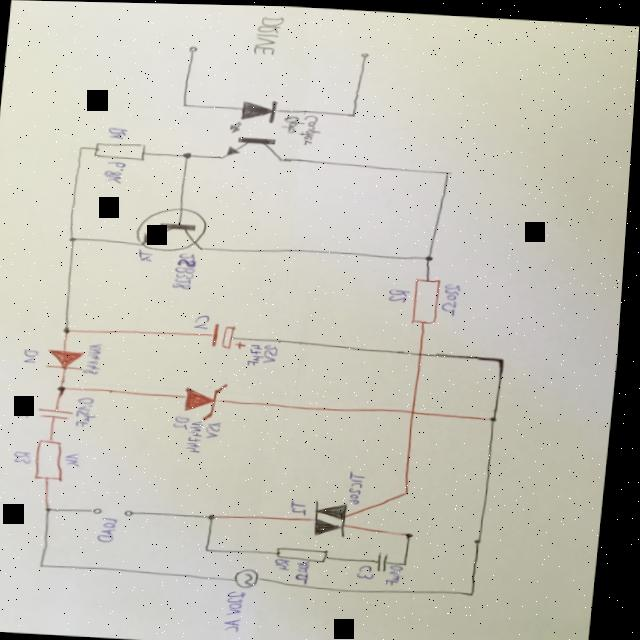capacitor: (213, 320, 252, 348), (40, 404, 80, 420), (381, 547, 397, 569)
crossover: (412, 405, 421, 412), (420, 348, 429, 354)
diode: (187, 379, 233, 419), (46, 346, 90, 369)
junction: (182, 148, 194, 158), (60, 382, 73, 390), (65, 324, 76, 333), (490, 411, 502, 419), (69, 234, 81, 241), (49, 503, 59, 511), (426, 251, 437, 258), (444, 166, 455, 173), (500, 353, 510, 360), (213, 511, 222, 518), (44, 560, 53, 566), (209, 544, 218, 550), (411, 529, 420, 535), (350, 108, 358, 114), (474, 587, 482, 593), (78, 143, 86, 149), (181, 100, 188, 106), (408, 487, 416, 492), (409, 558, 415, 562)
resistor: (37, 436, 74, 481), (413, 273, 445, 322), (93, 137, 149, 160), (280, 543, 337, 561)
source: (239, 565, 267, 587)
terminal: (186, 42, 199, 53), (128, 506, 143, 514), (358, 48, 370, 57), (97, 505, 109, 512)
text: (251, 12, 285, 53), (174, 249, 201, 288), (230, 587, 253, 631), (299, 111, 324, 144), (79, 394, 103, 426), (86, 340, 108, 374), (351, 467, 372, 502), (444, 278, 464, 313), (103, 157, 129, 183), (190, 417, 209, 451), (102, 514, 124, 542), (391, 560, 413, 583), (279, 111, 303, 130), (300, 557, 318, 582), (389, 284, 415, 301), (250, 340, 268, 363), (209, 418, 229, 437), (265, 340, 283, 361), (362, 560, 383, 577), (295, 496, 315, 513), (176, 411, 196, 428), (107, 123, 129, 138), (19, 400, 37, 418), (196, 310, 214, 328), (68, 450, 88, 466), (25, 346, 44, 362), (17, 448, 38, 462), (139, 245, 156, 260), (281, 554, 298, 568)
transistor: (136, 203, 211, 250)
